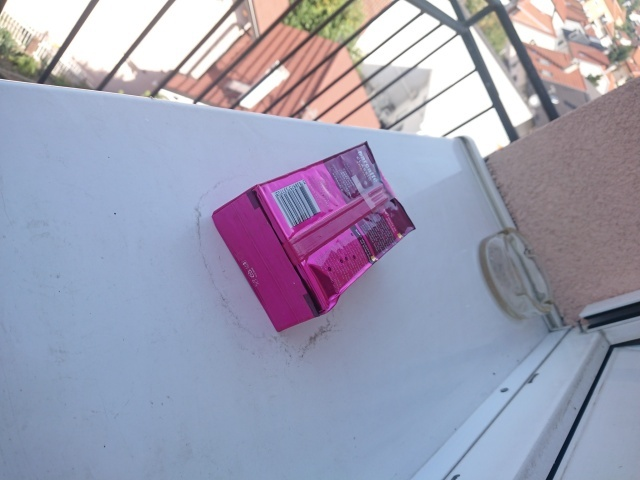Barcaffe Classic Original 225g: (208, 138, 420, 338)
